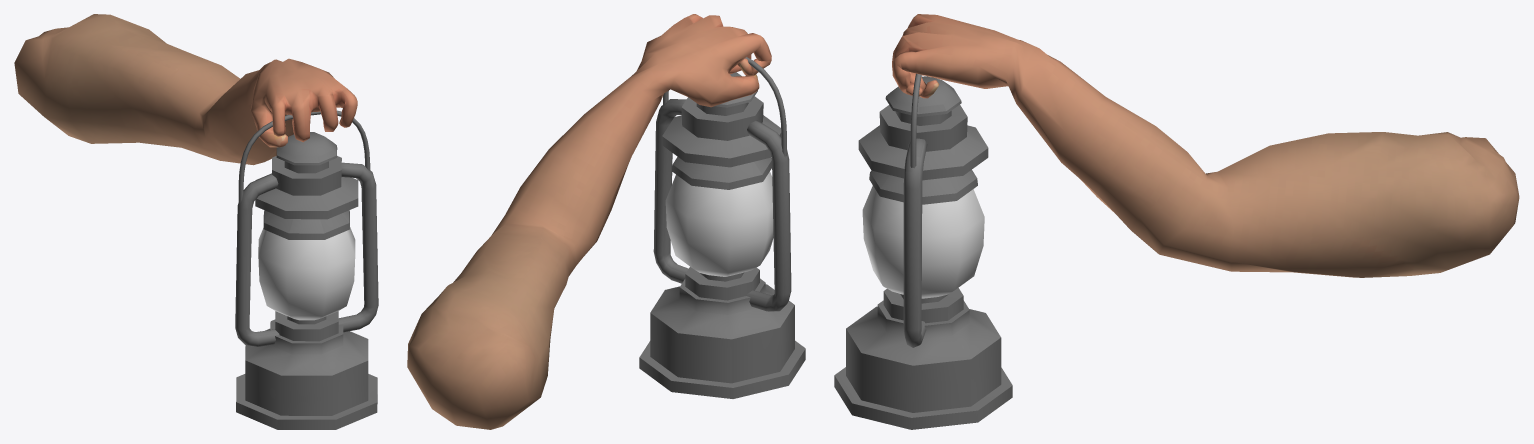
The model's file is place_holder_1FP 1.fbx.
3 renders of one model, left to right at view 1: azimuth 30°, elevation 25°; view 2: azimuth 150°, elevation 25°; view 3: azimuth 270°, elevation 25°, orthographic. The views are drawn at different scales.
Visible parts, largest first — view 1: karakter_arms_R, karakter_arms_L, karakter_arms_L.001; view 2: karakter_arms_R, karakter_arms_L, karakter_arms_L.001; view 3: karakter_arms_R, karakter_arms_L, karakter_arms_L.001.
Boxes of the visible parts, x1,y1,x2,y2 form: karakter_arms_R: (14, 14, 357, 165); karakter_arms_L: (235, 110, 378, 429); karakter_arms_L.001: (258, 227, 355, 320); karakter_arms_R: (407, 14, 771, 429); karakter_arms_L: (639, 57, 805, 398); karakter_arms_L.001: (665, 171, 773, 276); karakter_arms_R: (892, 14, 1519, 277); karakter_arms_L: (834, 73, 1012, 429); karakter_arms_L.001: (862, 185, 984, 298).
Size of the model in its own units: 20.87 by 39.7 by 66.92.
